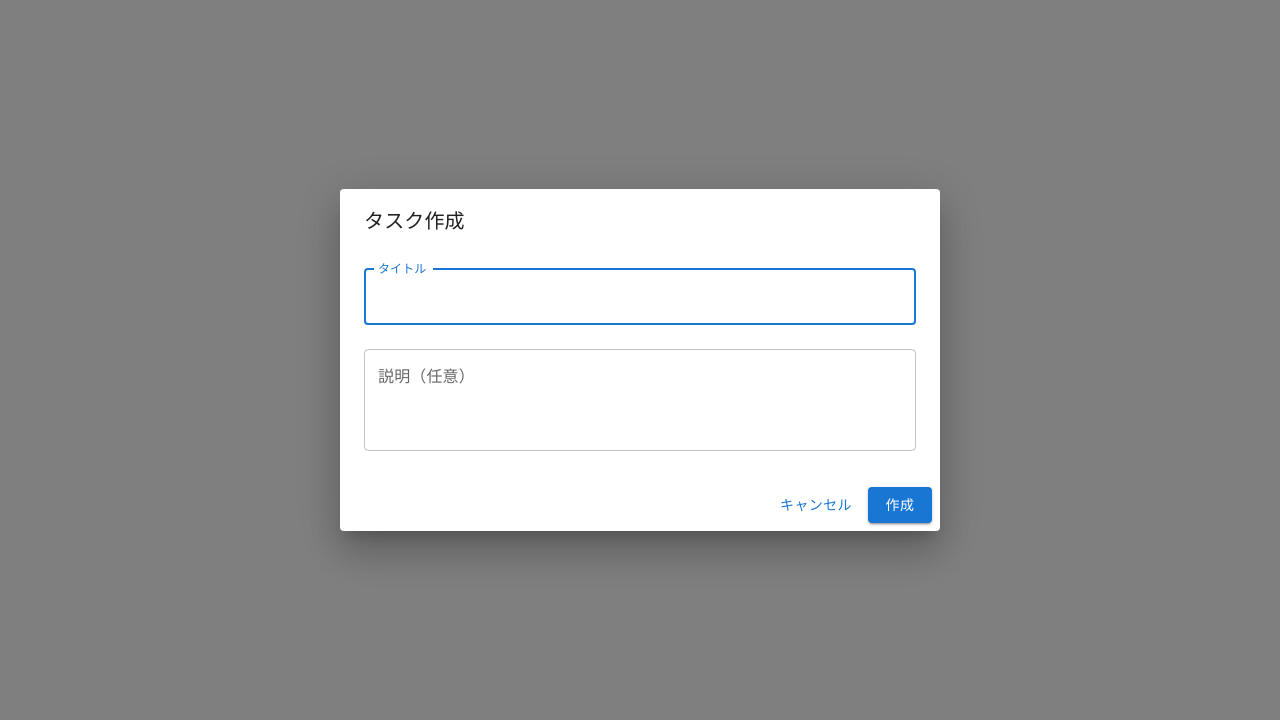
it: TaskCreateDialog › 送信失敗でエラーメッセージを表示する
Step 1. Type "新しいタスク" into the field labelled "タイトル" → (640,297), box [364, 269, 916, 325]
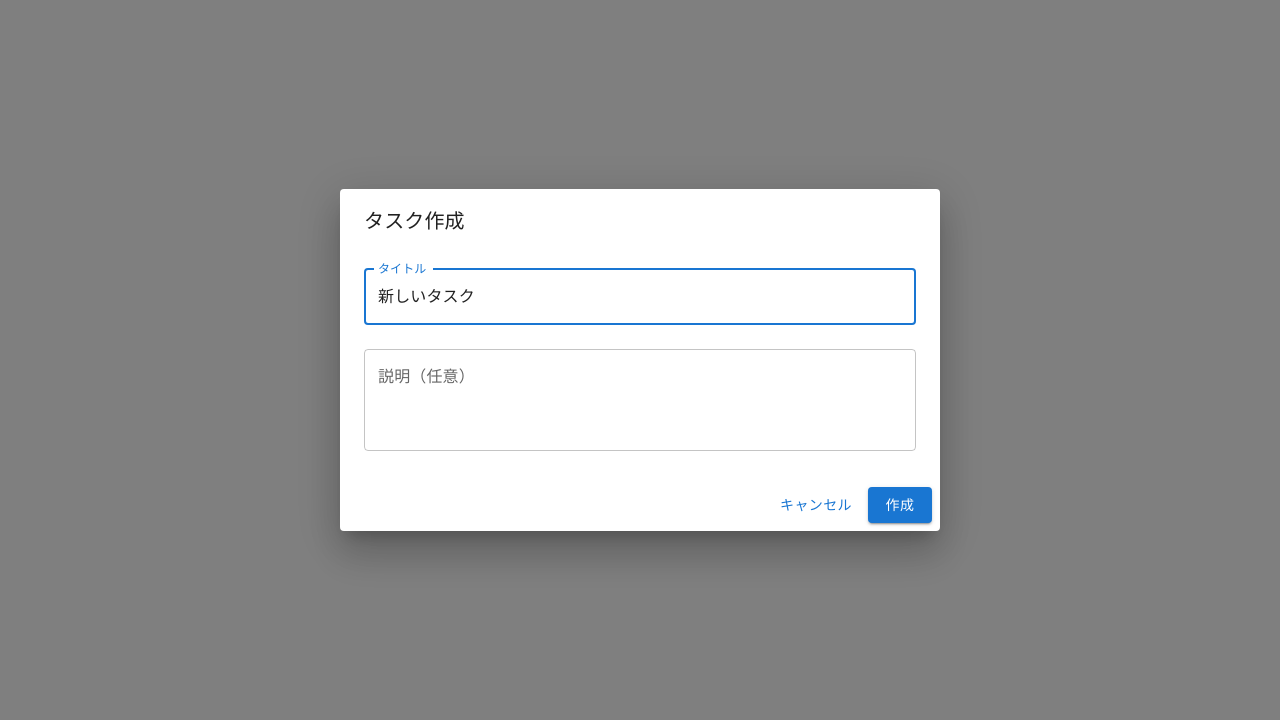
Step 2. Click the button "作成" → (900,505), box [868, 487, 932, 523]
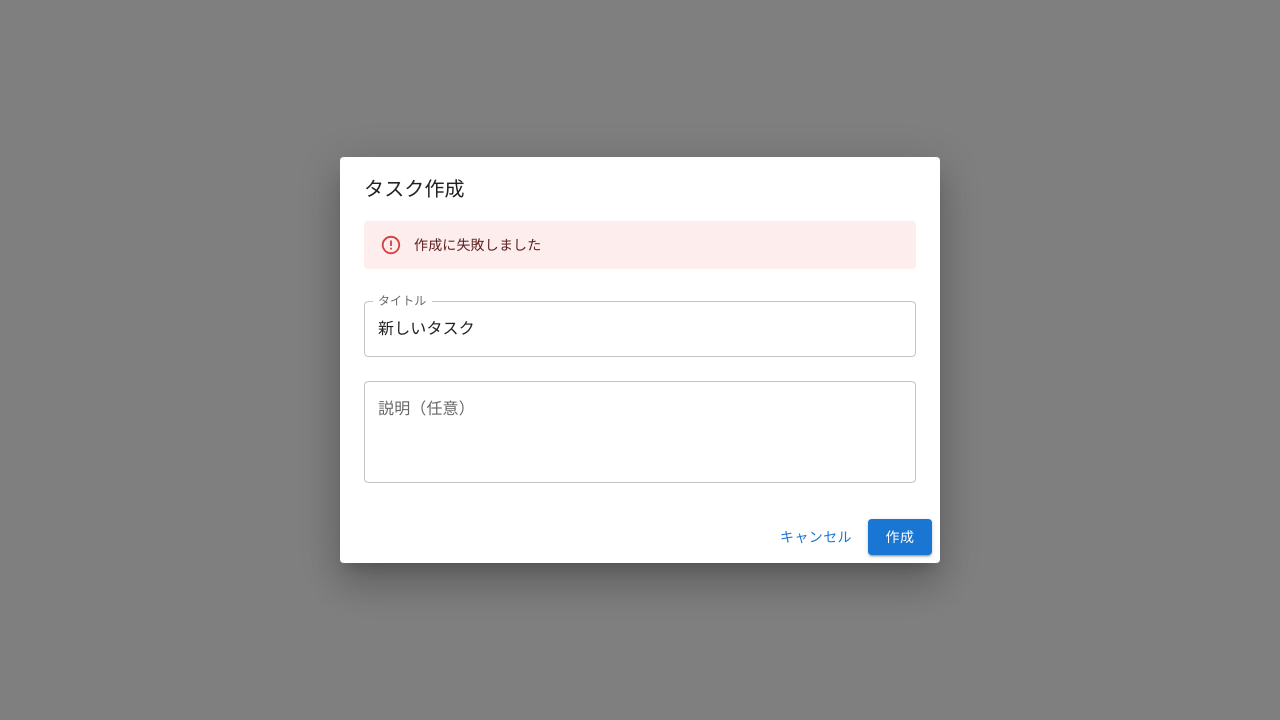
Now the text "作成に失敗しました" is shown, box [414, 237, 541, 253]
